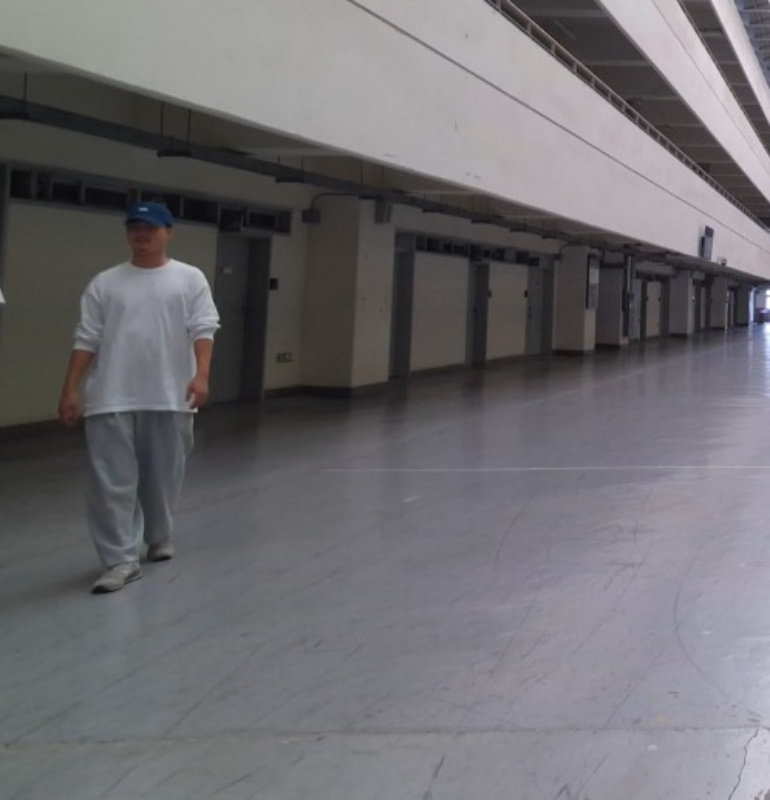person: (66, 201, 229, 593)
